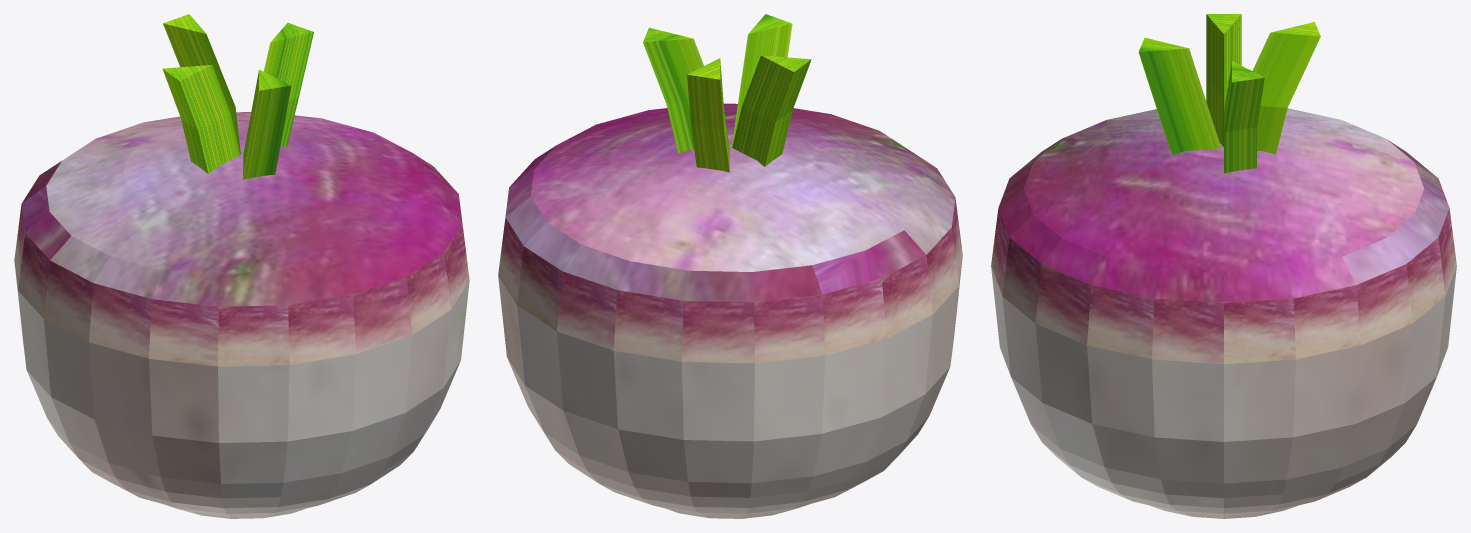
Rendered from Turnip.fbx.
3 views of the same model, side by side, from view 1: azimuth 30°, elevation 25°; view 2: azimuth 150°, elevation 25°; view 3: azimuth 270°, elevation 25° (orthographic). The views are drawn at different scales.
Parts seen in each view (by area): view 1: Turnip, pCylinder1; view 2: Turnip, pCylinder1; view 3: Turnip, pCylinder1.
Part boxes in pixels (box(x1,y1,x2,y2)): Turnip: box(14, 112, 469, 518); pCylinder1: box(162, 14, 313, 179); Turnip: box(498, 103, 962, 518); pCylinder1: box(643, 14, 811, 172); Turnip: box(991, 108, 1456, 518); pCylinder1: box(1138, 14, 1320, 173).
Size of the model in its own units: 1.65 by 1.74 by 1.65.
4 materials, 4 textured.
